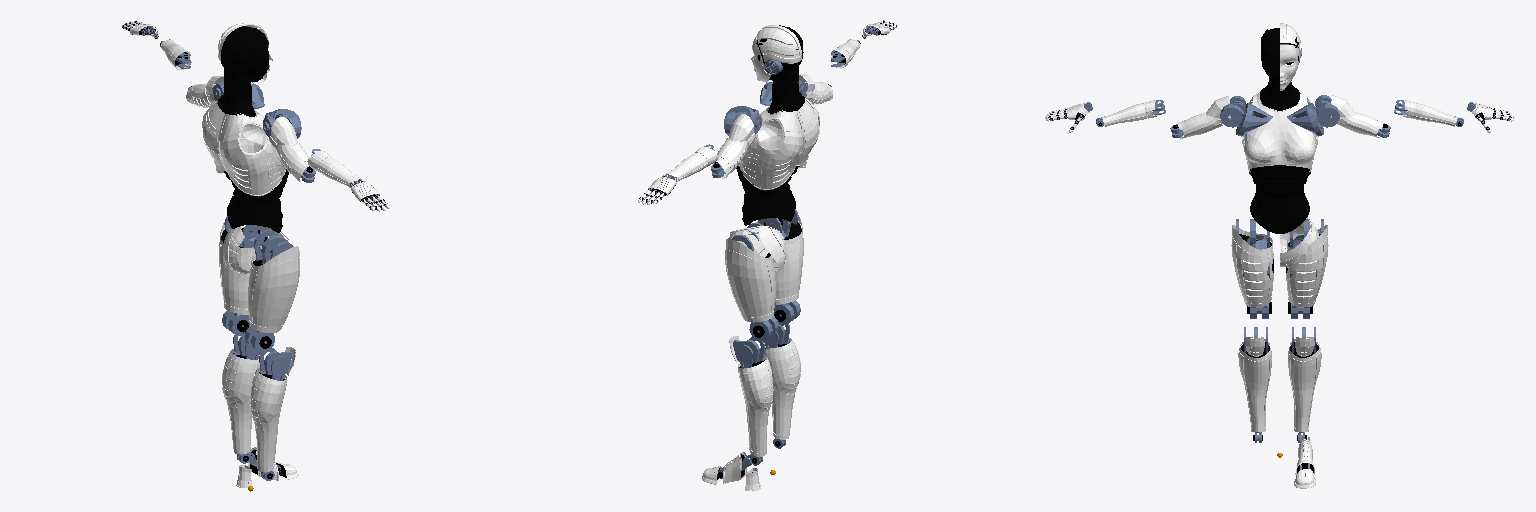
--- Facts derived from the render (not from the file) ---
Views: 3 orthographic renders of the robot side by side, from view 1: azimuth 30°, elevation 25°; view 2: azimuth 150°, elevation 25°; view 3: azimuth 270°, elevation 25°.
Robot: humanMeshed — 67 links, 66 joints (66 continuous); root link base_link; default pose: all joints at 0.
Visible links, largest first — view 1: chest_yaw, right_thigh_yaw, right_knee_yaw, left_knee_yaw, left_thigh_yaw, head_yaw, lower_spine_yaw, right_shoulder_yaw, neck_yaw, right_elbow_yaw, left_foot_yaw, hip_yaw (+3 smaller); view 2: chest_yaw, left_thigh_yaw, left_knee_yaw, right_knee_yaw, right_thigh_yaw, head_yaw, lower_spine_yaw, left_shoulder_yaw, hip_yaw, left_foot_yaw, neck_yaw, left_elbow_yaw (+3 smaller); view 3: chest_yaw, lower_spine_yaw, right_thigh_yaw, left_thigh_yaw, right_knee_yaw, left_knee_yaw, head_yaw, left_shoulder_yaw, right_shoulder_yaw, hip_yaw, left_clavicle_yaw, right_clavicle_yaw (+6 smaller).
Boxes of the visible links, left/top/right/bottom form: chest_yaw: left=202, top=101, right=285, bottom=196; right_thigh_yaw: left=244, top=230, right=299, bottom=352; right_knee_yaw: left=250, top=347, right=295, bottom=480; left_knee_yaw: left=222, top=335, right=260, bottom=463; left_thigh_yaw: left=219, top=216, right=269, bottom=335; head_yaw: left=218, top=23, right=272, bottom=83; lower_spine_yaw: left=224, top=169, right=288, bottom=232; right_shoulder_yaw: left=263, top=114, right=315, bottom=183; neck_yaw: left=217, top=68, right=255, bottom=116; right_elbow_yaw: left=307, top=149, right=365, bottom=187; left_foot_yaw: left=236, top=447, right=298, bottom=487; hip_yaw: left=223, top=225, right=288, bottom=273; chest_yaw: left=739, top=98, right=819, bottom=190; left_thigh_yaw: left=725, top=223, right=778, bottom=341; left_knee_yaw: left=729, top=336, right=773, bottom=465; right_knee_yaw: left=763, top=324, right=800, bottom=448; right_thigh_yaw: left=756, top=209, right=803, bottom=325; head_yaw: left=751, top=25, right=803, bottom=82; lower_spine_yaw: left=736, top=166, right=799, bottom=225; left_shoulder_yaw: left=711, top=112, right=761, bottom=178; hip_yaw: left=729, top=223, right=786, bottom=271; left_foot_yaw: left=702, top=452, right=760, bottom=491; neck_yaw: left=768, top=66, right=804, bottom=113; left_elbow_yaw: left=662, top=144, right=717, bottom=181; chest_yaw: left=1241, top=91, right=1318, bottom=171; lower_spine_yaw: left=1249, top=165, right=1310, bottom=233; right_thigh_yaw: left=1231, top=219, right=1273, bottom=318; left_thigh_yaw: left=1286, top=219, right=1328, bottom=318; right_knee_yaw: left=1238, top=327, right=1271, bottom=442; left_knee_yaw: left=1288, top=327, right=1321, bottom=442; head_yaw: left=1261, top=23, right=1301, bottom=90; left_shoulder_yaw: left=1315, top=95, right=1390, bottom=138; right_shoulder_yaw: left=1170, top=96, right=1245, bottom=138; hip_yaw: left=1243, top=217, right=1318, bottom=277; left_clavicle_yaw: left=1287, top=103, right=1339, bottom=135; right_clavicle_yaw: left=1220, top=103, right=1272, bottom=135.
Bounding box of the posed robot: 0.3796 × 1.78 × 1.8 m (x, y, z).
Meshes: 19 distinct files referenced, 18 mesh visuals loaded (18 Collada DAE); not drawn: 1 (file found but could not be loaded).

The robot description file, URDF, robot "humanMeshed":
<?xml version="1.0"?>
<robot name="humanMeshed">

<link name="base_link">
    <visual>
      <geometry>
        <sphere radius="0.01"/>
      </geometry>
    </visual>
  </link>

<!--   HIP starts here  -->
  <link name="hip_roll"/>

  <joint name="hip_roll" type="continuous">
    <parent link="base_link" />
    <child link="hip_roll" />
    <origin xyz="0.05 0 0.90"/>
    <axis xyz="1.0 0 0"/>
  </joint>

  <link name="hip_pitch">
    
  </link>

  <joint name="hip_pitch" type="continuous">
    <parent link="hip_roll"/>
    <child link="hip_pitch"/>
    <origin xyz="0 0 0"/>
    <axis xyz="0 1.0 0"/>
  </joint>

  <link name="hip_yaw">
        <visual>
      <geometry>  
        <mesh filename="package://online_tempo/models/humanMeshed/meshes/pelvis.dae" scale="0.06 0.06 0.06"/>
     </geometry>
      <origin rpy="0 0 1.57075" xyz="0 0 -0.96"/>   
    </visual>
  </link>

  <joint name="hip_yaw" type="continuous">
    <parent link="hip_pitch"/>
    <child link="hip_yaw"/>
    <origin xyz="0 0 0"/>
    <axis xyz="0 0 1.0"/>
  </joint>

 <!--           HIP ENDS HERE        -->
 <!--      RIGHT THIGH STARTS HERE    -->
 <joint name="right_thigh_roll" type="continuous">
    <parent link="hip_yaw"/>
    <child link="right_thigh_roll"/>
    <origin xyz="-0.008278 -0.100432  0.042441  "/>
    <axis xyz="1.0 0 0"/>
 </joint>

 <link name="right_thigh_roll"/>

 <joint name="right_thigh_pitch" type="continuous">
    <parent link="right_thigh_roll"/>
    <child link="right_thigh_pitch"/>
    <origin xyz="0 0 0"/>
    <axis xyz="0 1.0 0"/>
 </joint>

 <link name="right_thigh_pitch"/>

 <joint name="right_thigh_yaw" type="continuous">
    <parent link="right_thigh_pitch"/>
    <child link="right_thigh_yaw"/>
    <origin xyz="0 0 0"/>
    <axis xyz="0 0 1.0"/>
 </joint>

<link name="right_thigh_yaw">
  <visual>
    <geometry>
      <mesh filename="package://online_tempo/models/humanMeshed/meshes/rightThigh.dae" scale="0.06 0.06 0.06"/>
    </geometry>      
    <origin rpy="0 0 1.57075" xyz="0 0.0875 -0.8725"/>  
  </visual>
</link>
<!--       RIGHT THIGH ENDS HERE       -->
<!--       RIGHT KNEE STARTS HERE      -->
<joint name="right_knee_roll" type="continuous">
  <parent link="right_thigh_yaw"/>
  <child link="right_knee_roll"/>
  <origin xyz="0 0.008037 -0.436842"/>
  <axis xyz="1.0 0 0"/>
</joint>

<link name="right_knee_roll"/>

<joint name="right_knee_pitch" type="continuous">
  <parent link="right_knee_roll"/>
  <child link="right_knee_pitch"/>
  <origin xyz="0 0 0"/>
  <axis xyz="0 1.0 0"/>
</joint>

<link name="right_knee_pitch"/>

<joint name="right_knee_yaw" type="continuous">
  <parent link="right_knee_pitch"/>
  <child link="right_knee_yaw"/>
  <origin xyz="0 0 0"/>
  <axis xyz="0 0 1.0"/>
</joint>

<link name="right_knee_yaw">
  <visual>
    <geometry>
      <mesh filename="package://online_tempo/models/humanMeshed/meshes/rightShin.dae" scale="0.06 0.06 0.06"/>
    </geometry>      
    <origin rpy="0 0 1.57075" xyz="0.05 0.0675 -0.53"/>    
  </visual>
</link>
<!--         RIGHT KNEE ENDS HERE   -->
<!--         RIGHT FOOT STARTS HERE -->
<joint name="right_foot_roll" type="continuous">
  <parent link="right_knee_yaw"/>
  <child link="right_foot_roll"/>
  <origin xyz="0.0000 0.0000 -0.428949  "/>
  <axis xyz="1.0 0 0"/>
</joint> 

<link name="right_foot_roll"/>

<joint name="right_foot_pitch" type="continuous">
  <parent link="right_foot_roll"/>
  <child link="right_foot_pitch"/>
  <origin xyz="0 0 0"/>
  <axis xyz="0 1.0 0"/>
</joint> 

<link name="right_foot_pitch"/>

<joint name="right_foot_yaw" type="continuous">
  <parent link="right_foot_pitch"/>
  <child link="right_foot_yaw"/>
  <origin xyz="0 0 0"/>
  <axis xyz="0 0 1.0"/>
</joint> 

<link name="right_foot_yaw">
  <visual>
    <geometry>
      <mesh filename="package://online_tempo/models/humanMeshed/meshes/rightFoot.dae" scale="0.06 0.06 0.06"/>
    </geometry>
    <origin rpy="0 0 1.57075" xyz="0.07375 0.055 -0.1075"/>    
   </visual>
 </link>

<!--   RIGHT FOOT ENDS HERE   -->
<joint name="right_toe_roll" type="continuous">
  <parent link="right_foot_yaw"/>
  <child link="right_toe_roll"/>
  <origin xyz="0.098587 0.0000 -0.047145 "/>
  <axis xyz="1.0 0 0"/>
</joint>

<link name="right_toe_roll"/>

<joint name="right_toe_pitch" type="continuous">
  <parent link="right_toe_roll"/>
  <child link="right_toe_pitch"/>
  <origin xyz="0 0 0"/>
  <axis xyz="0 1.0 0"/>
</joint>

<link name="right_toe_pitch"/>

<joint name="right_toe_yaw" type="continuous">
  <parent link="right_toe_pitch"/>
  <child link="right_toe_yaw"/>
  <origin xyz="0 0 0"/>
  <axis xyz="0 0 1.0"/>
</joint>

<link name="right_toe_yaw"/>


<!--   LEFT THIGH STARTS HERE -->
 <joint name="left_thigh_roll" type="continuous">
    <parent link="hip_yaw"/>
    <child link="left_thigh_roll"/>
    
    <origin xyz="-0.008278 0.100433 0.042438  "/>
    <axis xyz="1.0 0 0"/>
 </joint>



 <link name="left_thigh_roll"/>

 <joint name="left_thigh_pitch" type="continuous">
    <parent link="left_thigh_roll"/>
    <child link="left_thigh_pitch"/>
    <origin xyz="0 0 0"/>
    <axis xyz="0 1.0 0"/>
 </joint>

 <link name="left_thigh_pitch"/>

 <joint name="left_thigh_yaw" type="continuous">
    <parent link="left_thigh_pitch"/>
    <child link="left_thigh_yaw"/>
    <origin xyz="0 0 0"/>
    <axis xyz="0 0 1.0"/>
 </joint>

<link name="left_thigh_yaw">
  <visual>
    <geometry>
      <mesh filename="package://online_tempo/models/humanMeshed/meshes/leftThigh.dae" scale="0.06 0.06 0.06"/>
    </geometry>      
    <origin rpy="0 0 1.57075" xyz="0 -0.0875 -0.8725"/>    
  </visual>
</link>
<!--     LEFT THIGH ENDS HERE -->
<!--       LEFT KNEE STARTS HERE      -->
<joint name="left_knee_roll" type="continuous">
  <parent link="left_thigh_yaw"/>
  <child link="left_knee_roll"/>
  <origin xyz="0 -0.008037 -0.436838 "/>

  <axis xyz="1.0 0 0"/>
</joint>

<link name="left_knee_roll"/>

<joint name="left_knee_pitch" type="continuous">
  <parent link="left_knee_roll"/>
  <child link="left_knee_pitch"/>
  <origin xyz="0 0 0"/>
  <axis xyz="0 1.0 0"/>
</joint>

<link name="left_knee_pitch"/>

<joint name="left_knee_yaw" type="continuous">
  <parent link="left_knee_pitch"/>
  <child link="left_knee_yaw"/>
  <origin xyz="0 0 0"/>
  <axis xyz="0 0 1.0"/>
</joint>

<link name="left_knee_yaw">
  <visual>
    <geometry>
      <mesh filename="package://online_tempo/models/humanMeshed/meshes/leftShin.dae" scale="0.06 0.06 0.06"/>
    </geometry>      
    <origin rpy="0 0 1.57075" xyz="0.05 -0.0675 -0.53"/>   
  </visual>
</link>
<!--         left KNEE ENDS HERE   -->
<!--         left FOOT STARTS HERE -->
<joint name="left_foot_roll" type="continuous">
  <parent link="left_knee_yaw"/>
  <child link="left_foot_roll"/>
  
  <origin xyz="0 0.0000 -0.428949  "/>
  <axis xyz="1.0 0 0"/>
</joint> 

<link name="left_foot_roll"/>

<joint name="left_foot_pitch" type="continuous">
  <parent link="left_foot_roll"/>
  <child link="left_foot_pitch"/>
  <origin xyz="0 0 0"/>
  <axis xyz="0 1.0 0"/>
</joint> 

<link name="left_foot_pitch"/>

<joint name="left_foot_yaw" type="continuous">
  <parent link="left_foot_pitch"/>
  <child link="left_foot_yaw"/>
  <origin xyz="0 0 0"/>
  <axis xyz="0 0 1.0"/>
</joint> 

<link name="left_foot_yaw">
  <visual>
    <geometry>
      <mesh filename="package://online_tempo/models/humanMeshed/meshes/leftFoot.dae" scale="0.06 0.06 0.06"/>
    </geometry>
    <origin rpy="0 0 1.57075" xyz="0.07375 -0.055 -0.1075"/>    
   </visual>
</link>
<!--   left FOOT ENDS HERE   -->

<joint name="left_toe_roll" type="continuous">
  <parent link="left_foot_yaw"/>
  <child link="left_toe_roll"/>
  <origin xyz="0.098587 0.0000 -0.047145 "/>
  <axis xyz="1.0 0 0"/>
</joint>

<link name="left_toe_roll"/>

<joint name="left_toe_pitch" type="continuous">
  <parent link="left_toe_roll"/>
  <child link="left_toe_pitch"/>
  <origin xyz="0 0 0"/>
  <axis xyz="0 1.0 0"/>
</joint>

<link name="left_toe_pitch"/>

<joint name="left_toe_yaw" type="continuous">
  <parent link="left_toe_pitch"/>
  <child link="left_toe_yaw"/>
  <origin xyz="0 0 0"/>
  <axis xyz="0 0 1.0"/>
</joint>

<link name="left_toe_yaw"/>



<!--   lower_spine STARTS HERE   -->
<joint name="lower_spine_roll" type="continuous">
  <parent link="hip_yaw"/>
  <child link="lower_spine_roll"/>
  <origin xyz="-0.050805 0.0000 0.093885  "/>
  <axis xyz="1.0 0 0"/>
</joint>

<link name="lower_spine_roll"/>

<joint name="lower_spine_pitch" type="continuous">
  <parent link="lower_spine_roll"/>
  <child link="lower_spine_pitch"/>
  <origin xyz="0 0 0"/>
  <axis xyz="0 1.0 0"/>
</joint>

<link name="lower_spine_pitch"/>

<joint name="lower_spine_yaw" type="continuous">
  <parent link="lower_spine_pitch"/>
  <child link="lower_spine_yaw"/>
  <origin xyz="0 0 0"/>
  <axis xyz="0 0 1.0"/>
</joint>


<link name="lower_spine_yaw">
  <visual>
    <geometry>
              <mesh filename="package://online_tempo/models/humanMeshed/meshes/abdomen.dae" scale="0.06 0.06 0.06"/>
    </geometry>
    <origin rpy="0 0 1.57075" xyz="-0.005 0 -1"/>    
  </visual>
</link>

<!--  lower_spine ENDS HERE     -->
<!--  middle_spine Starts here  -->
<joint name="middle_spine_roll" type="continuous">
  <parent link="lower_spine_yaw"/>
  <child link="middle_spine_roll"/>
  <origin xyz="0.004476 0.0000 0.085677  "/>
  <axis xyz="1.0 0 0"/>
</joint>

<link name="middle_spine_roll"/>

<joint name="middle_spine_pitch" type="continuous">
  <parent link="middle_spine_roll"/>
  <child link="middle_spine_pitch"/>
  <origin xyz="0 0 0"/>
  <axis xyz="0 1.0 0"/>
</joint>

<link name="middle_spine_pitch"/>

<joint name="middle_spine_yaw" type="continuous">
  <parent link="middle_spine_pitch"/>
  <child link="middle_spine_yaw"/>
  <origin xyz="0 0 0"/>
  <axis xyz="0 0 1.0"/>
</joint>

<link name="middle_spine_yaw">
  <!--
  <visual>
    <geometry>
        <box size="0.10 0.25 0.08"/>
    </geometry>
    <origin rpy="0 0 0" xyz="0 0 0.04"/>    
  </visual>
-->
</link>

<!--  middle_spine Ends here    -->
<!--  CHEST STARTS HERE     -->
<joint name="chest_roll" type="continuous">
  <parent link="middle_spine_yaw"/>
  <child link="chest_roll"/>
  <origin xyz="-0.023598 0.0000 0.106015 "/>
  <axis xyz="1.0 0 0"/>
</joint>

<link name="chest_roll"/>

<joint name="chest_pitch" type="continuous">
  <parent link="chest_roll"/>
  <child link="chest_pitch"/>
  <origin xyz="0 0 0"/>
  <axis xyz="0 1.0 0"/>
</joint>

<link name="chest_pitch"/>

<joint name="chest_yaw" type="continuous">
  <parent link="chest_pitch"/>
  <child link="chest_yaw"/>
  <origin xyz="0 0 0"/>
  <axis xyz="0 0 1.0"/>
</joint>

<link name="chest_yaw">
  <visual>
    <geometry>
      <mesh filename="package://online_tempo/models/humanMeshed/meshes/chest.dae" scale="0.06 0.06 0.06"/>
    </geometry>
    <origin rpy="0 0 1.57075" xyz="0 0 -1.2"/>    
  </visual>
</link>
<!--     Chest ends here            -->
<!--     left clavicle starts here  -->
<joint name="left_clavicle_roll" type="continuous">
  <parent link="chest_yaw"/>
  <child link="left_clavicle_roll"/>
  <origin xyz="0.078988 0.024119 0.230552 "/>
  <axis xyz="1.0 0 0"/>
</joint>

<link name="left_clavicle_roll"/>

<joint name="left_clavicle_pitch" type="continuous">
  <parent link="left_clavicle_roll"/>
  <child link="left_clavicle_pitch"/>
  <origin xyz="0 0 0"/>
  <axis xyz="0 1.0 0"/>
</joint>

<link name="left_clavicle_pitch"/>

<joint name="left_clavicle_yaw" type="continuous">
  <parent link="left_clavicle_pitch"/>
  <child link="left_clavicle_yaw"/>
  <origin xyz="0 0 0"/>
  <axis xyz="0 0 1.0"/>
</joint>

<link name="left_clavicle_yaw">
  <visual>
    <geometry>
    <mesh filename="package://online_tempo/models/humanMeshed/meshes/leftClavicle.dae" scale="0.06 0.06 0.06"/>
    </geometry>
    <origin rpy="0 0 1.57075" xyz="0.04 0 -1.4"/>
  </visual>
</link>
<!-- left clavicle ends here   -->
<!-- left shoulder starts here -->
<joint name="left_shoulder_roll" type="continuous">
  <parent link="left_clavicle_yaw"/>
  <child link="left_shoulder_roll"/>
  <origin xyz="-0.053510 0.140907  0.033069  "/>
  <axis xyz="1.0 0 0"/>
</joint>

<link name="left_shoulder_roll"/>

<joint name="left_shoulder_pitch" type="continuous">
  <parent link="left_shoulder_roll"/>
  <child link="left_shoulder_pitch"/>
  <origin xyz="0 0 0"/>
  <axis xyz="0 1.0 0"/>
</joint>

<link name="left_shoulder_pitch"/>

<joint name="left_shoulder_yaw" type="continuous">
  <parent link="left_shoulder_pitch"/>
  <child link="left_shoulder_yaw"/>
  <origin xyz="0 0 0"/>
  <axis xyz="0 0 1.0"/>
</joint>

<link name="left_shoulder_yaw">
  <visual>
    <geometry>
      <mesh filename="package://online_tempo/models/humanMeshed/meshes/leftBicep.dae" scale="0.06 0.06 0.06"/> 
    </geometry>
    <origin rpy="0 0 1.57075 " xyz="0.04 -0.16 -1.42" />
  </visual>
</link>
<!-- left shoulder ends here -->
<!-- left elbow starts here -->
<joint name="left_elbow_roll" type="continuous">
  <parent link="left_shoulder_yaw"/>
  <child link="left_elbow_roll"/>
  <origin xyz="-0.002594 0.299313  -0.001061 "/>
  <axis xyz="1.0 0 0"/>
</joint>

<link name="left_elbow_roll"/>

<joint name="left_elbow_pitch" type="continuous">
  <parent link="left_elbow_roll"/>
  <child link="left_elbow_pitch"/>
  <origin xyz="0 0 0"/>
  <axis xyz="0 1.0 0"/>
</joint>

<link name="left_elbow_pitch"/>

<joint name="left_elbow_yaw" type="continuous">
  <parent link="left_elbow_pitch"/>
  <child link="left_elbow_yaw"/>
  <origin xyz="0 0 0"/>
  <axis xyz="0 0 1.0"/>
</joint>

<link name="left_elbow_yaw">
  <visual>
    <geometry>
      <mesh filename="package://online_tempo/models/humanMeshed/meshes/leftForearm.dae" scale="0.06 0.06 0.06"/> 
    </geometry>
    <origin rpy="0 0 1.57075 " xyz="0.04 -0.4 -1.322" />
  </visual>
</link>
<!-- left elbow ends here   -->
<!-- left hand starts here  -->
<joint name="left_hand_roll" type="continuous">
  <parent link="left_elbow_yaw"/>
  <child link="left_hand_roll"/>
  <origin xyz="-0.001496 0.249691  0.000724  "/>
  <axis xyz="1.0 0 0"/>
</joint>

<link name="left_hand_roll"/>

<joint name="left_hand_pitch" type="continuous">
  <parent link="left_hand_roll"/>
  <child link="left_hand_pitch"/>
  <origin xyz="0 0 0"/>
  <axis xyz="0 1.0 0"/>
</joint>

<link name="left_hand_pitch"/>

<joint name="left_hand_yaw" type="continuous">
  <parent link="left_hand_pitch"/>
  <child link="left_hand_yaw"/>
  <origin xyz="0 0 0"/>
  <axis xyz="0 0 1.0"/>
</joint>

<link name="left_hand_yaw">
  <visual>
    <geometry>
      <mesh filename="package://online_tempo/models/humanMeshed/meshes/leftHand.dae" scale="0.06 0.06 0.06"/> 
    </geometry>
    <origin rpy="0 0 1.57075 " xyz="-0.0075 -0.61 -1.28" />
  </visual>
</link>
<!-- left hand ends here    -->

<joint name="right_clavicle_roll" type="continuous">
  <parent link="chest_yaw"/>
  <child link="right_clavicle_roll"/>
  <origin xyz="0.078988 -0.024119  0.230552 "/>
  <axis xyz="1.0 0 0"/>
</joint>

<link name="right_clavicle_roll"/>

<joint name="right_clavicle_pitch" type="continuous">
  <parent link="right_clavicle_roll"/>
  <child link="right_clavicle_pitch"/>
  <origin xyz="0 0 0"/>
  <axis xyz="0 1.0 0"/>
</joint>

<link name="right_clavicle_pitch"/>

<joint name="right_clavicle_yaw" type="continuous">
  <parent link="right_clavicle_pitch"/>
  <child link="right_clavicle_yaw"/>
  <origin xyz="0 0 0"/>
  <axis xyz="0 0 1.0"/>
</joint>

<link name="right_clavicle_yaw">
  <visual>
    <geometry>
    <mesh filename="package://online_tempo/models/humanMeshed/meshes/rightClavicle.dae" scale="0.06 0.06 0.06"/>
    </geometry>
    <origin rpy="0 0 1.57075" xyz="0.04 0 -1.4"/>
  </visual>
</link>
<!-- right clavicle ends here   -->
<!-- right shoulder starts here -->
<joint name="right_shoulder_roll" type="continuous">
  <parent link="right_clavicle_yaw"/>
  <child link="right_shoulder_roll"/>
  <origin xyz="-0.053519 -0.140932 0.033075  "/>
  <axis xyz="1.0 0 0"/>
</joint>

<link name="right_shoulder_roll"/>

<joint name="right_shoulder_pitch" type="continuous">
  <parent link="right_shoulder_roll"/>
  <child link="right_shoulder_pitch"/>
  <origin xyz="0 0 0"/>
  <axis xyz="0 1.0 0"/>
</joint>

<link name="right_shoulder_pitch"/>

<joint name="right_shoulder_yaw" type="continuous">
  <parent link="right_shoulder_pitch"/>
  <child link="right_shoulder_yaw"/>
  <origin xyz="0 0 0"/>
  <axis xyz="0 0 1.0"/>
</joint>

<link name="right_shoulder_yaw">
  <visual>
    <geometry>
      <mesh filename="package://online_tempo/models/humanMeshed/meshes/rightBicep.dae" scale="0.06 0.06 0.06"/> 
    </geometry>
    <origin rpy="0 0 1.57075 " xyz="0.045 0.165 -1.42" />
  </visual>
</link>
<!-- right shoulder ends here -->
<!-- right elbow starts here -->
<joint name="right_elbow_roll" type="continuous">
  <parent link="right_shoulder_yaw"/>
  <child link="right_elbow_roll"/>
  <origin xyz="-0.002594 -0.299313 -0.001061 "/>
  <axis xyz="1.0 0 0"/>
</joint>

<link name="right_elbow_roll"/>

<joint name="right_elbow_pitch" type="continuous">
  <parent link="right_elbow_roll"/>
  <child link="right_elbow_pitch"/>
  <origin xyz="0 0 0"/>
  <axis xyz="0 1.0 0"/>
</joint>

<link name="right_elbow_pitch"/>

<joint name="right_elbow_yaw" type="continuous">
  <parent link="right_elbow_pitch"/>
  <child link="right_elbow_yaw"/>
  <origin xyz="0 0 0"/>
  <axis xyz="0 0 1.0"/>
</joint>

<link name="right_elbow_yaw">
  <visual>
    <geometry>
      <mesh filename="package://online_tempo/models/humanMeshed/meshes/rightForearm.dae" scale="0.06 0.06 0.06"/> 
    </geometry>
    <origin rpy="0 0 1.57075 " xyz="0.04 0.4 -1.322" />
  </visual>
</link>
<!-- right elbow ends here   -->
<!-- right hand starts here  -->
<joint name="right_hand_roll" type="continuous">
  <parent link="right_elbow_yaw"/>
  <child link="right_hand_roll"/>
  <origin xyz="-0.001496 -0.249691 0.000724  "/>
  <axis xyz="1.0 0 0"/>
</joint>

<link name="right_hand_roll"/>

<joint name="right_hand_pitch" type="continuous">
  <parent link="right_hand_roll"/>
  <child link="right_hand_pitch"/>
  <origin xyz="0 0 0"/>
  <axis xyz="0 1.0 0"/>
</joint>

<link name="right_hand_pitch"/>

<joint name="right_hand_yaw" type="continuous">
  <parent link="right_hand_pitch"/>
  <child link="right_hand_yaw"/>
  <origin xyz="0 0 0"/>
  <axis xyz="0 0 1.0"/>
</joint>

<link name="right_hand_yaw">
  <visual>
    <geometry>
      <mesh filename="package://online_tempo/models/humanMeshed/meshes/rightHand.dae" scale="0.06 0.06 0.06"/> 
    </geometry>
    <origin rpy="0 0 1.57075 " xyz="-0.0075 0.61 -1.28" />
  </visual>
</link>
<!-- right hand ends here    -->

<!-- neck starts here   -->
<joint name="neck_roll" type="continuous">
  <parent link="chest_yaw"/>
  <child link="neck_roll"/>
  <origin xyz="0 0 0.25"/>
  <axis xyz="1.0 0 0"/>
</joint>

<link name="neck_roll"/>

<joint name="neck_pitch" type="continuous">
  <parent link="neck_roll"/>
  <child link="neck_pitch"/>
  <origin xyz="0 0 0"/>
  <axis xyz="0 1.0 0"/>
</joint>

<link name="neck_pitch"/>

<joint name="neck_yaw" type="continuous">
  <parent link="neck_pitch"/>
  <child link="neck_yaw"/>
  <origin xyz="0 0 0"/>
  <axis xyz="0 0 1.0"/>
</joint>

<link name="neck_yaw">
  <visual>
    <geometry>
      <mesh filename="package://online_tempo/models/humanMeshed/meshes/neck.dae" scale="0.06 0.06 0.06"/> 
    </geometry>
    <origin rpy="0 0 1.57075 " xyz="-0.0075 0 -1.45" />
  </visual>
</link>
<!-- neck ends here -->
<!-- head starts here -->
<joint name="head_roll" type="continuous">
  <parent link="neck_yaw"/>
  <child link="head_roll"/>
  <origin xyz="0 0 0.10"/>
  <axis xyz="1.0 0 0"/>
</joint>

<link name="head_roll"/>

<joint name="head_pitch" type="continuous">
  <parent link="head_roll"/>
  <child link="head_pitch"/>
  <origin xyz="0 0 0"/>
  <axis xyz="0 1.0 0"/>
</joint>

<link name="head_pitch"/>

<joint name="head_yaw" type="continuous">
  <parent link="head_pitch"/>
  <child link="head_yaw"/>
  <origin xyz="0 0 0"/>
  <axis xyz="0 0 1.0"/>
</joint>

<link name="head_yaw">
  <visual>
    <geometry>
      <mesh filename="package://online_tempo/models/humanMeshed/meshes/head.dae" scale="0.06 0.06 0.06"/> 
    </geometry>
    <origin rpy="0 0 1.57075 " xyz="-0.0075 0 -1.53" />
  </visual>
</link>


<!--


<link name="hip">
    
  </link>

  <link name="lower_spine"/>
  <joint name="hip_to_lower_spine" type="continuous">
    <parent link="hip"/>
    <child link="lower_spine"/>
  </joint> 

  <link name="middle_spine"/>
  <joint name="lower_spine_to_middle_spine" type="continuous">
    <parent link="lower_spine"/>
    <child link="middle_spine"/>
  </joint> 

  <link name="chest"/>  
  <joint name="middle_spine_to_chest" type="continuous">
    <parent link="middle_spine"/>
    <child link="chest"/>
  </joint> 

  <link name="neck"/>  
  <joint name="chest_to_neck" type="continuous">
    <parent link="chest"/>
    <child link="neck"/>
  </joint> 

 <link name="head"/>  
  <joint name="neck_to_head" type="continuous">
    <parent link="neck"/>
    <child link="head"/>
  </joint> 

 

 <link name="left_clavicle"/>  
  <joint name="chest_to_left_clavicle" type="continuous">
    <parent link="chest"/>
    <child link="left_clavicle"/>
  </joint> 
  
 <link name="left_shoulder"/>  
  <joint name="left_clavicle_to_left_shoulder" type="continuous">
    <parent link="left_clavicle"/>
    <child link="left_shoulder"/>
  </joint> 
 
 <link name="left_forearm"/>  
  <joint name="left_shoulder_to_left_forearm" type="continuous">
    <parent link="left_shoulder"/>
    <child link="left_forearm"/>
  </joint>

 <link name="left_hand"/>  
  <joint name="left_forearm_to_left_hand" type="continuous">
    <parent link="left_forearm"/>
    <child link="left_hand"/>
  </joint>  

 <link name="right_clavicle"/>  
  <joint name="chest_to_right_clavicle" type="continuous">
    <parent link="chest"/>
    <child link="right_clavicle"/>
  </joint> 
  
 <link name="right_shoulder"/>  
  <joint name="right_clavicle_to_right_shoulder" type="continuous">
    <parent link="right_clavicle"/>
    <child link="right_shoulder"/>
  </joint> 
 
 <link name="right_forearm"/>  
  <joint name="right_shoulder_to_right_forearm" type="continuous">
    <parent link="right_shoulder"/>
    <child link="right_forearm"/>
  </joint>

 <link name="right_hand"/>  
  <joint name="right_forearm_to_right_hand" type="continuous">
    <parent link="right_forearm"/>
    <child link="right_hand"/>
  </joint>


  <link name="right_tigh">
    
  </link>

  <link name="right_leg">
    
  </link>

  <link name="right_foot">
    
  </link>

 <link name="right_foot_toe"/> 


 <joint name="right_foot_to_right_foot_toe" type="continuous">
    <parent link="right_foot"/>
    <child link="right_foot_toe"/>
    <origin xyz="0 0 -0.45"/>
  </joint> 

 
  

  <link name="left_tigh">
   
  </link>

  <link name="left_leg">

  </link>

  <link name="left_foot">
    
  </link>

  <link name="left_foot_toe"/>

  <joint name="left_foot_to_left_foot_toe" type="continuous">
    <parent link="left_foot"/>
    <child link="left_foot_toe"/>
    <origin xyz="0 0 -0.45"/>
  </joint> 

  
  

 


  <joint name="base_to_hip" type="continuous">
    <parent link="base_link" />
    <child link="hip" />
    <origin xyz="0 0 0.90"/>
  </joint>
 
  
<joint name="hip_to_right_tigh" type="continuous">
  <parent link="hip"/>
    <child link="right_tigh"/>
    <origin xyz="0 -0.1 0"/>
  </joint>





  <joint name="right_tigh_to_right_leg" type="continuous">
    <parent link="right_tigh" />
    <child link="right_leg"/>
    <origin xyz="0 0 -0.45"/>
   </joint>   

  <joint name="right_leg_to_foot" type="continuous">
    <parent link="right_leg"/>
    <child link="right_foot"/>
    <origin xyz="0 0 -0.45"/>
  </joint> 



  
   <joint name="hip_to_left_tigh" type="continuous">
    <parent link="hip"/>
    <child link="left_tigh"/>
    <origin xyz="0 0.1 0"/>
  </joint>

  <joint name="left_tigh_to_left_leg" type="continuous">
    <parent link="left_tigh" />
    <child link="left_leg"/>
    <origin xyz="0 0 -0.45"/>
   </joint>   

  <joint name="left_leg_to_foot" type="continuous">
    <parent link="left_leg"/>
    <child link="left_foot"/>
    <origin xyz="0 0 -0.45"/>
  </joint> 
-->

</robot>
